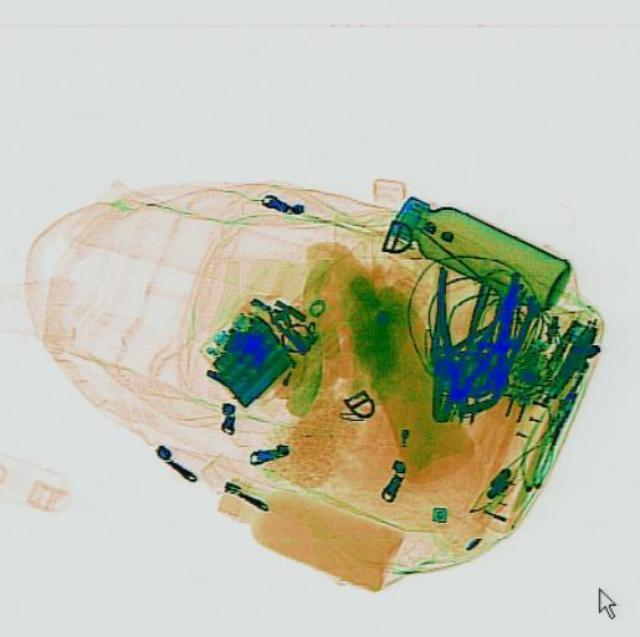Pliers: (427, 264, 518, 425), (412, 265, 491, 420)
